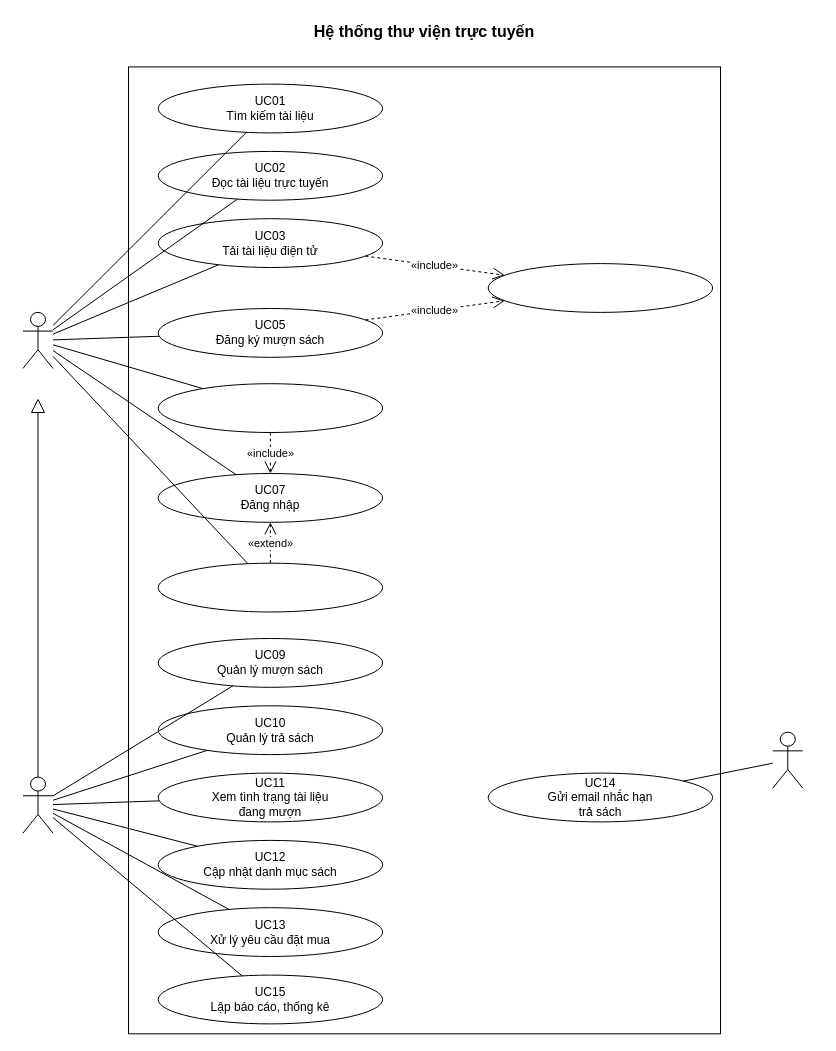
Image size: 836x1051. Some labels were removed from this diagram. Here are the shapes that lost their labels. From the top down, the centre of each, then its label:
(x=600, y=287): UC04 Nhập mã thẻ thư viện
(x=37, y=339): Độc giả
(x=270, y=407): UC08 Đặt mua tài liệu
(x=270, y=587): UC06 Đăng ký tài khoản
(x=787, y=759): Mail Server
(x=37, y=804): Thủ thư
